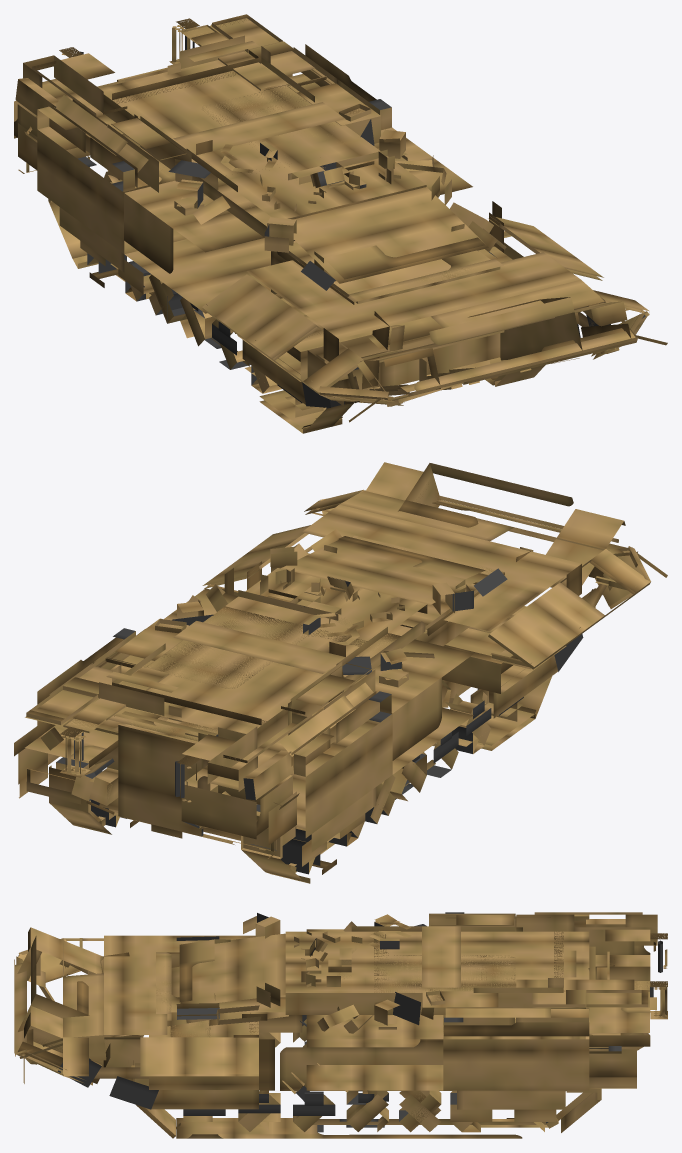
3 views of the same model, one above another, from view 1: azimuth 30°, elevation 25°; view 2: azimuth 150°, elevation 25°; view 3: azimuth 270°, elevation 25° (orthographic). The views are drawn at different scales.
Visible parts, largest first — view 1: body, tracks, w5, w4, w6, w3; view 2: body, tracks, w2, w7, w4, w3, w5; view 3: body, tracks, w13, w12, w11, w10, w14, w15, w9.
Boxes of the visible parts, bbox=[...] form: body: bbox=[14, 14, 667, 422]; tracks: bbox=[48, 156, 545, 433]; w5: bbox=[149, 274, 185, 323]; w4: bbox=[180, 297, 233, 346]; w6: bbox=[118, 260, 162, 301]; w3: bbox=[212, 319, 250, 369]; body: bbox=[14, 462, 667, 858]; tracks: bbox=[49, 676, 552, 883]; w2: bbox=[445, 693, 491, 753]; w7: bbox=[280, 827, 326, 874]; w4: bbox=[381, 752, 426, 801]; w3: bbox=[427, 731, 458, 777]; w5: bbox=[365, 775, 395, 823]; body: bbox=[14, 912, 667, 1109]; tracks: bbox=[128, 1021, 601, 1138]; w13: bbox=[399, 1090, 441, 1132]; w12: bbox=[346, 1090, 388, 1131]; w11: bbox=[293, 1091, 335, 1132]; w10: bbox=[238, 1090, 280, 1131]; w14: bbox=[450, 1090, 492, 1132]; w15: bbox=[514, 1109, 556, 1131]; w9: bbox=[183, 1109, 225, 1121].
Size of the model in its own units: 6.3 by 3.17 by 12.79.
